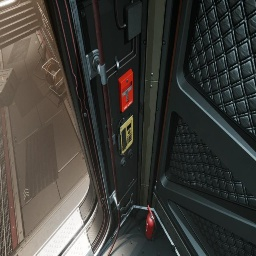EmergencyPhone ,: (118, 111, 133, 155)
FireAlarm ,: (118, 68, 133, 112)
FireExtinguisher ]: (145, 204, 157, 241)
